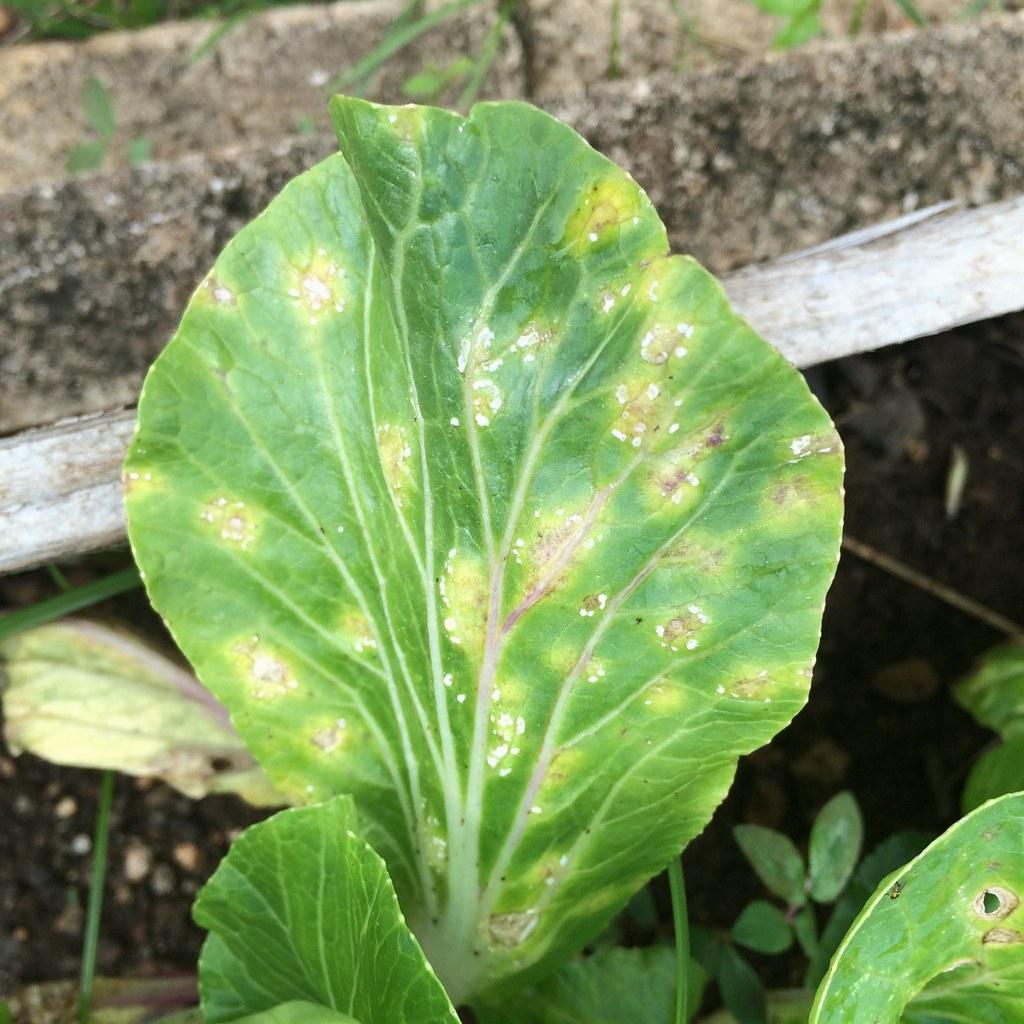Bok-Choy-Diseased: (68, 90, 838, 1024)
